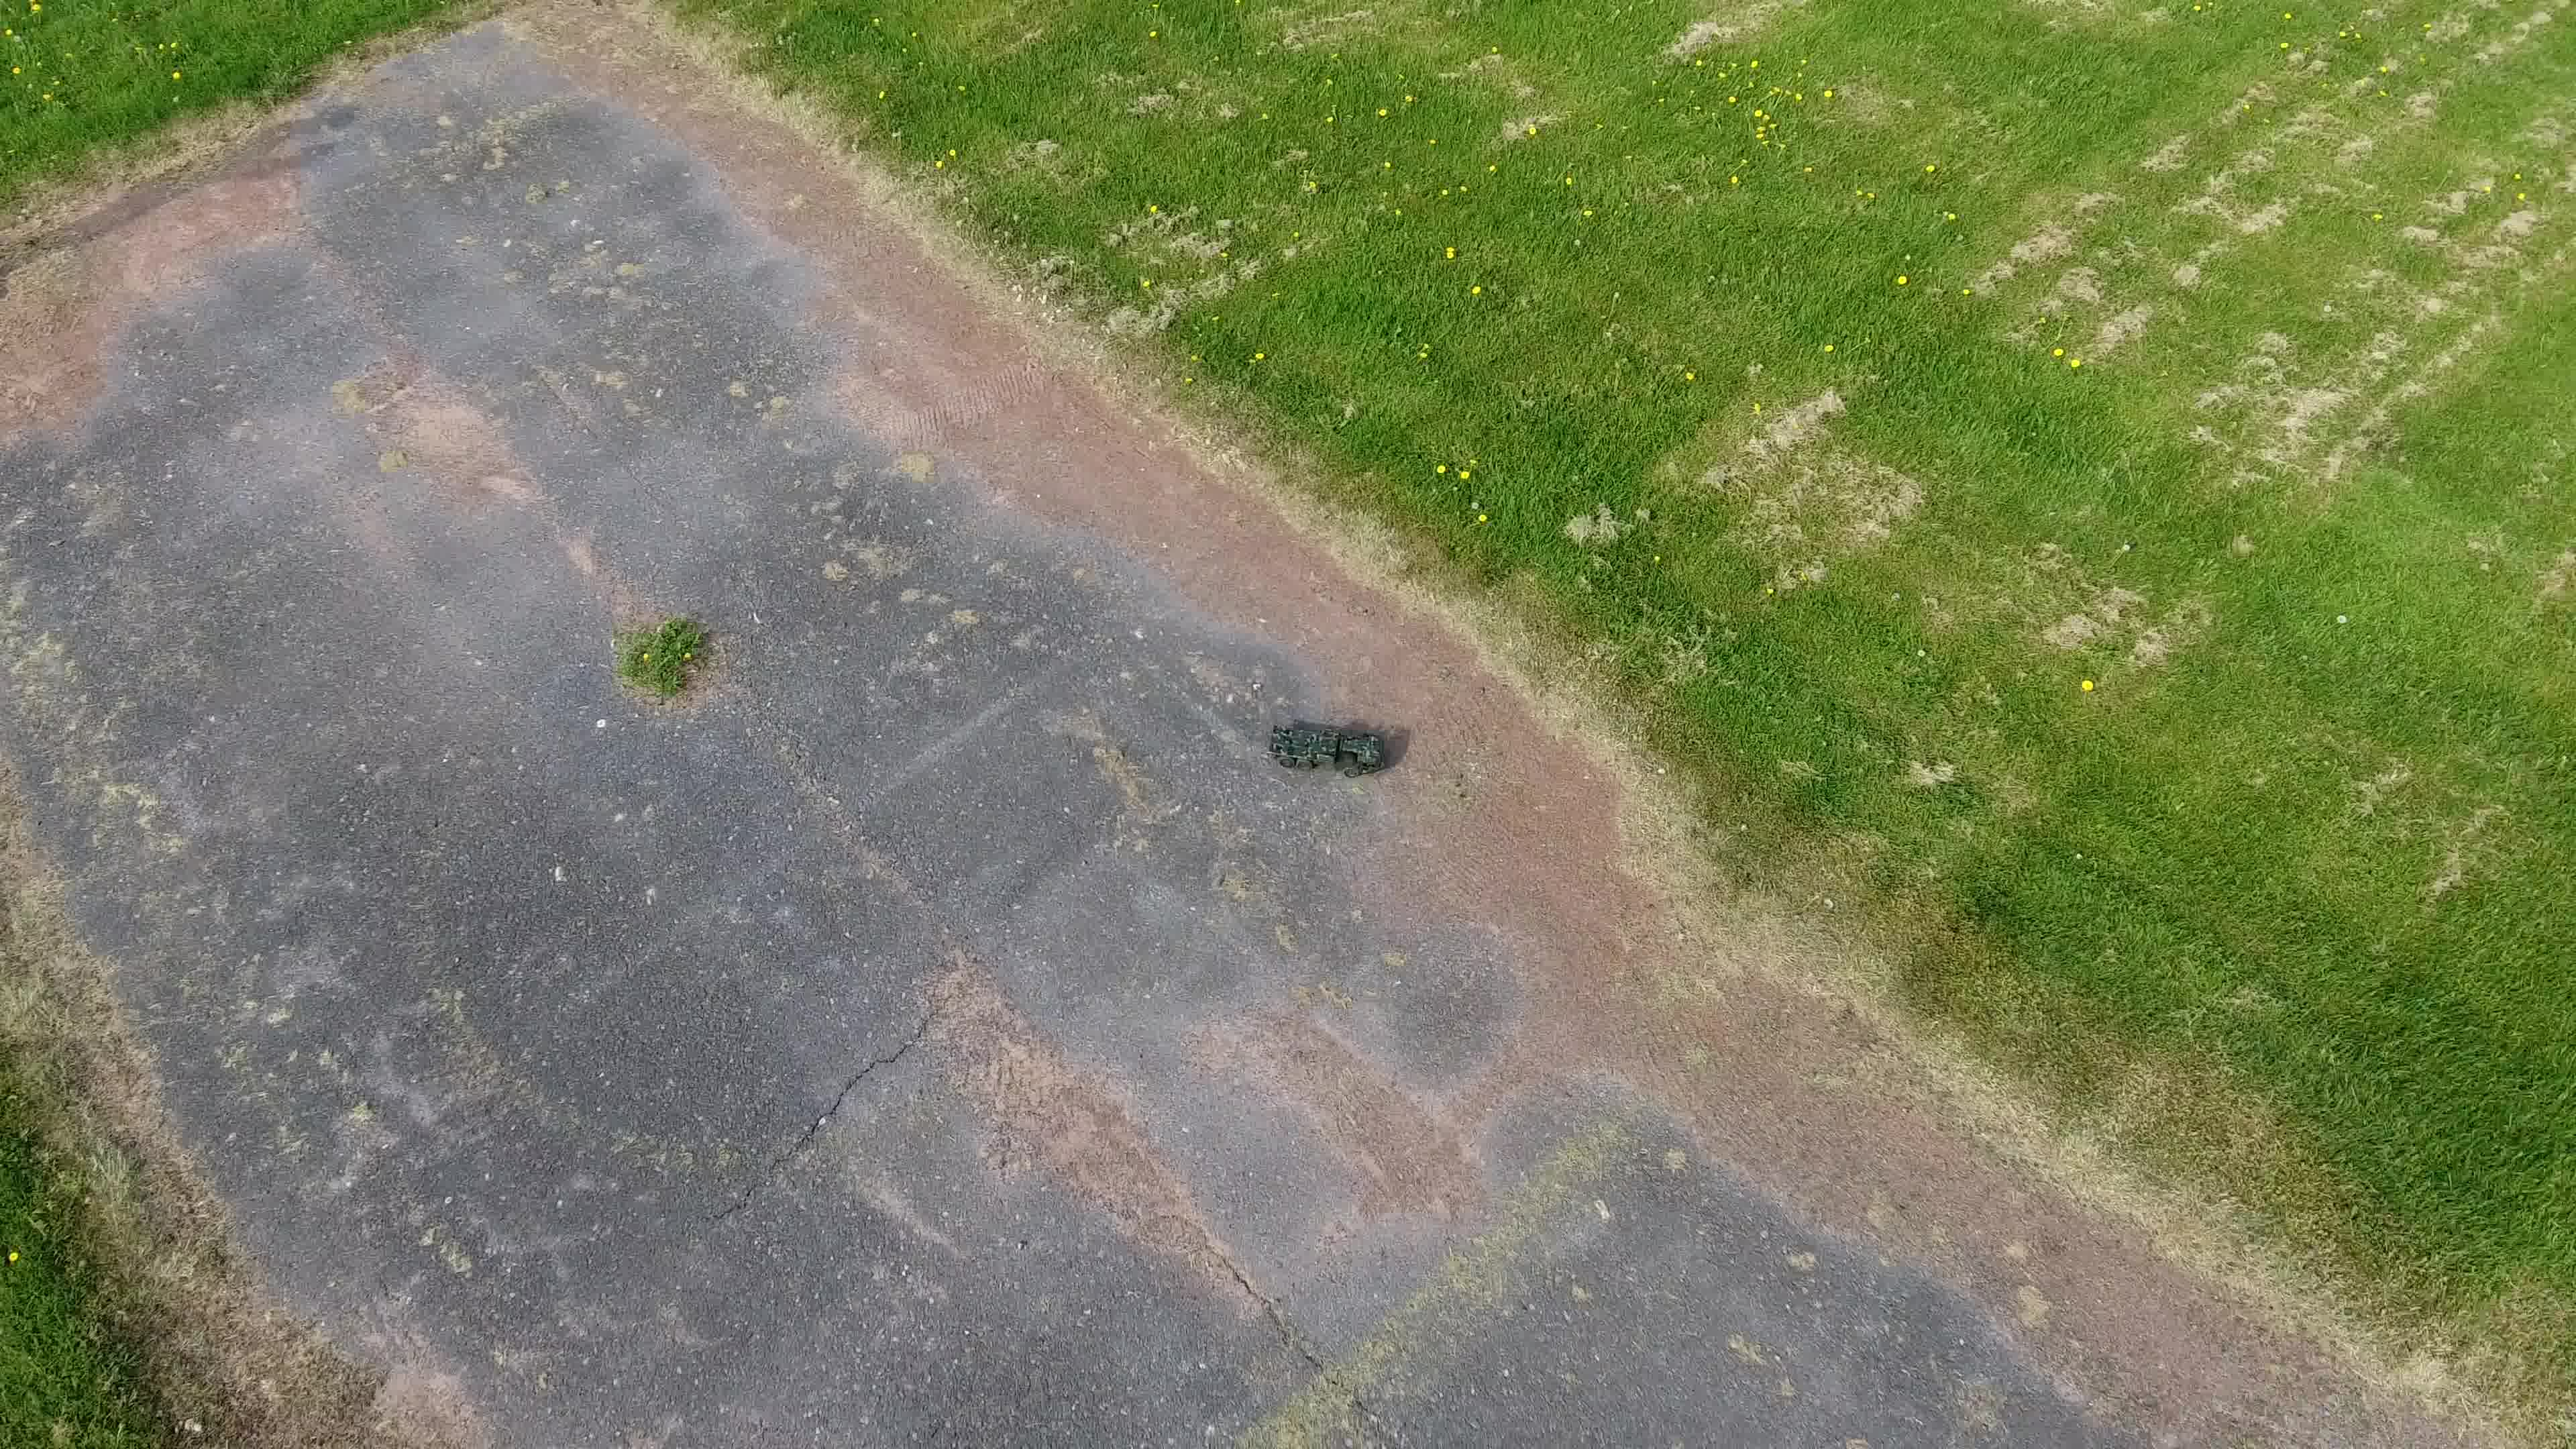transporter9_camo: (1263, 717, 1387, 780)
